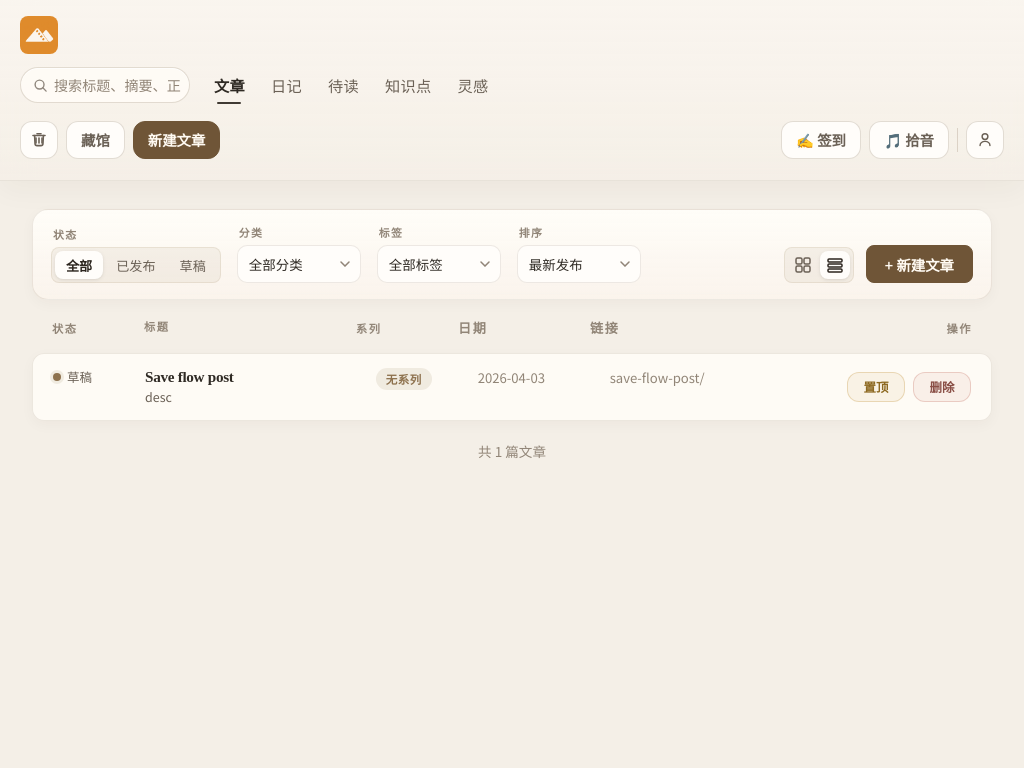
Test: App save flow › does not resurface the previous save success message after reverting back to the saved content
expect the text "Save flow post" is shown: met, box [145,368,234,386]
Click the button "草稿 Save flow post desc 无系列 2026-04-03 save-flow-post/": (189, 376) [53,368,831,406]
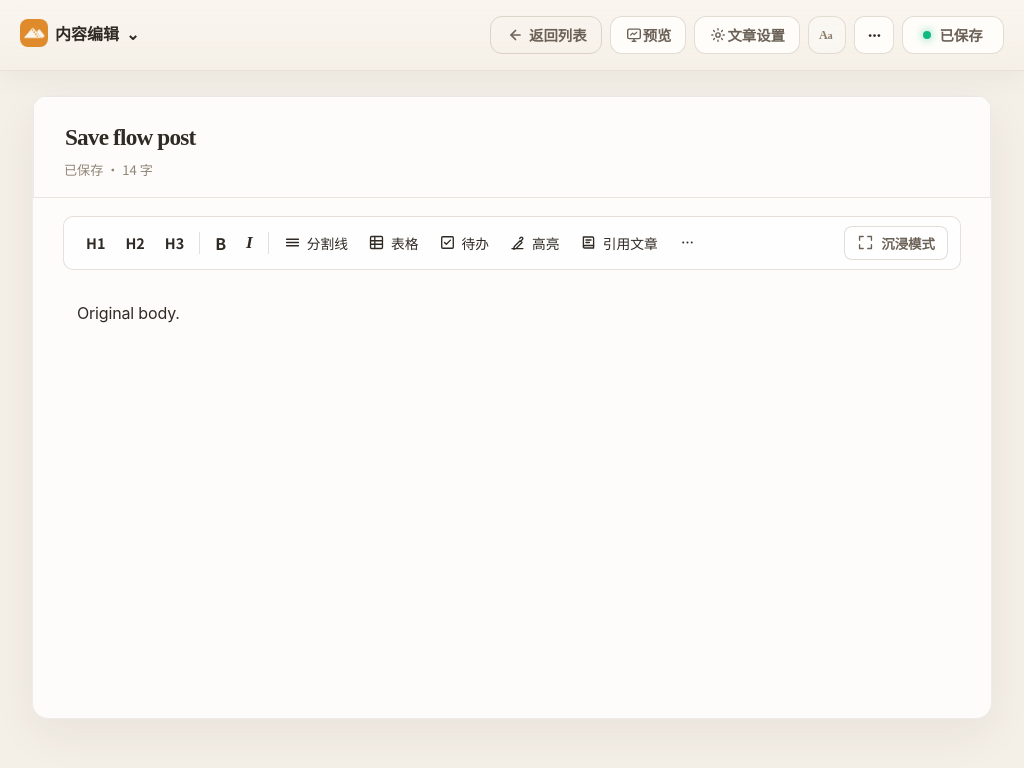
expect the text box named "Markdown 编辑器" is shown: met, box [63,270,961,688]
Replace the text in the field named "标题" with "Updated title": (512, 138) [64,123,960,153]
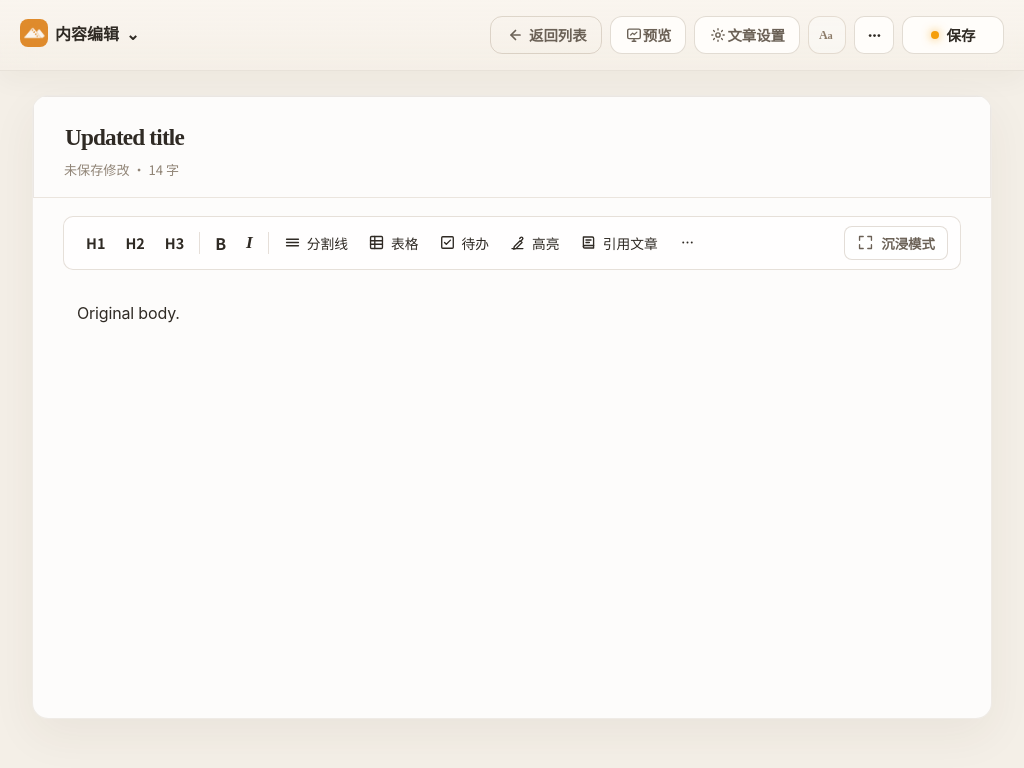
Click the button "保存": (953, 35) [902,16,1004,54]
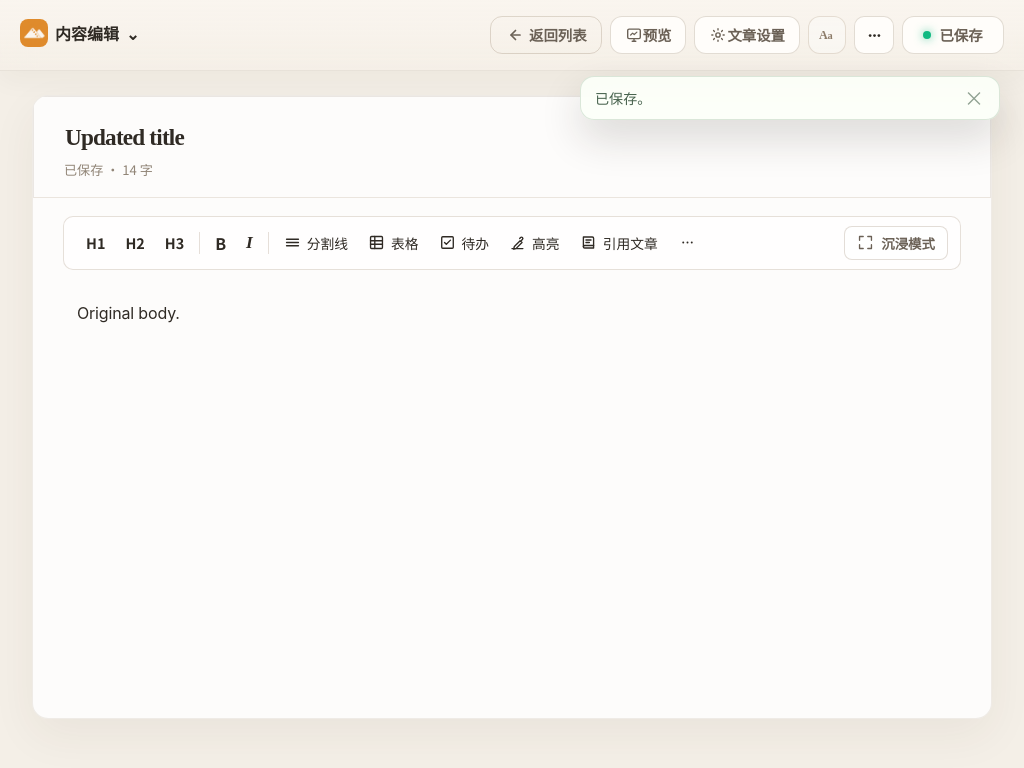
expect the text "已保存。" is shown: met, box [595,88,651,108]
Replace the text in the field named "标题" with "Edited again after save": (512, 138) [64,123,960,153]
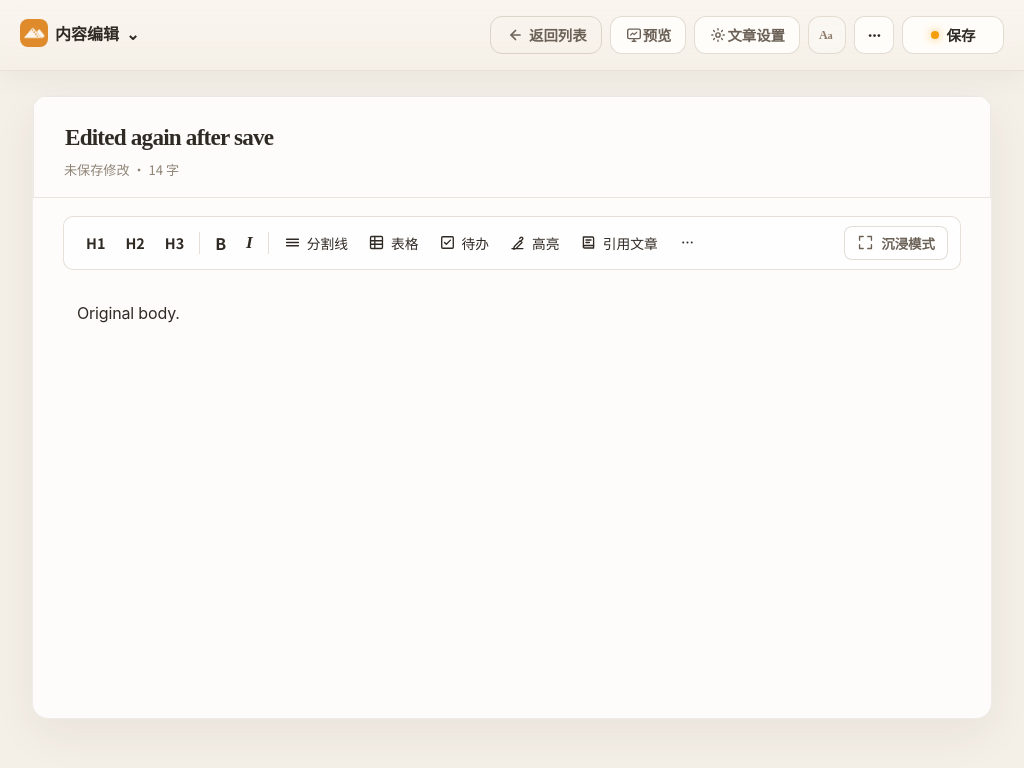
expect the text "已保存。" is gone: met
Replace the text in the field named "标题" with "Updated title": (512, 138) [64,123,960,153]
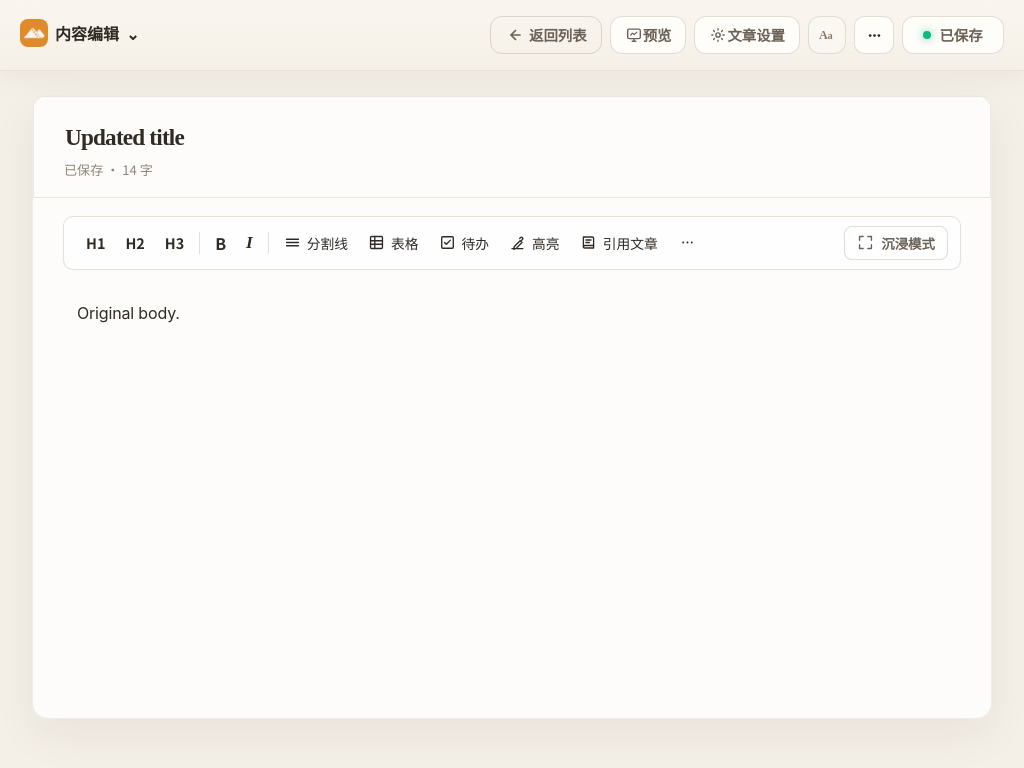
expect the text "已保存。" is not shown: met
expect the button "已保存" is disabled: met, box [902,16,1004,54]
